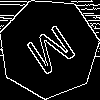M: (24, 23, 84, 85)
